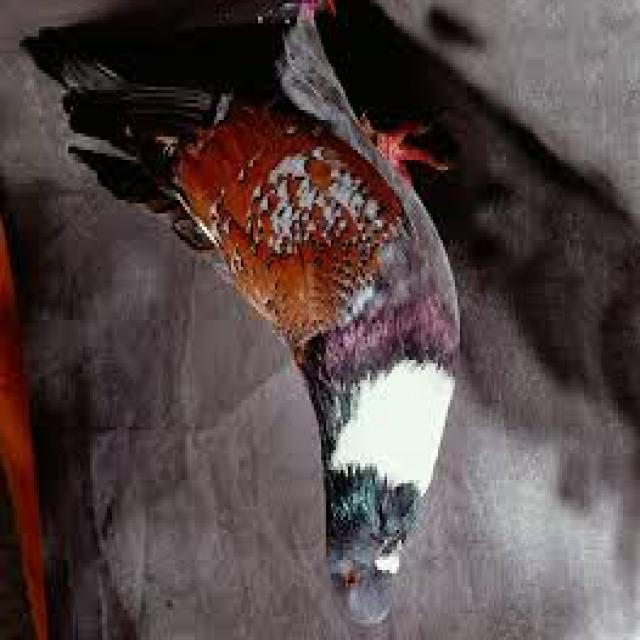pigeon: (43, 0, 480, 638)
